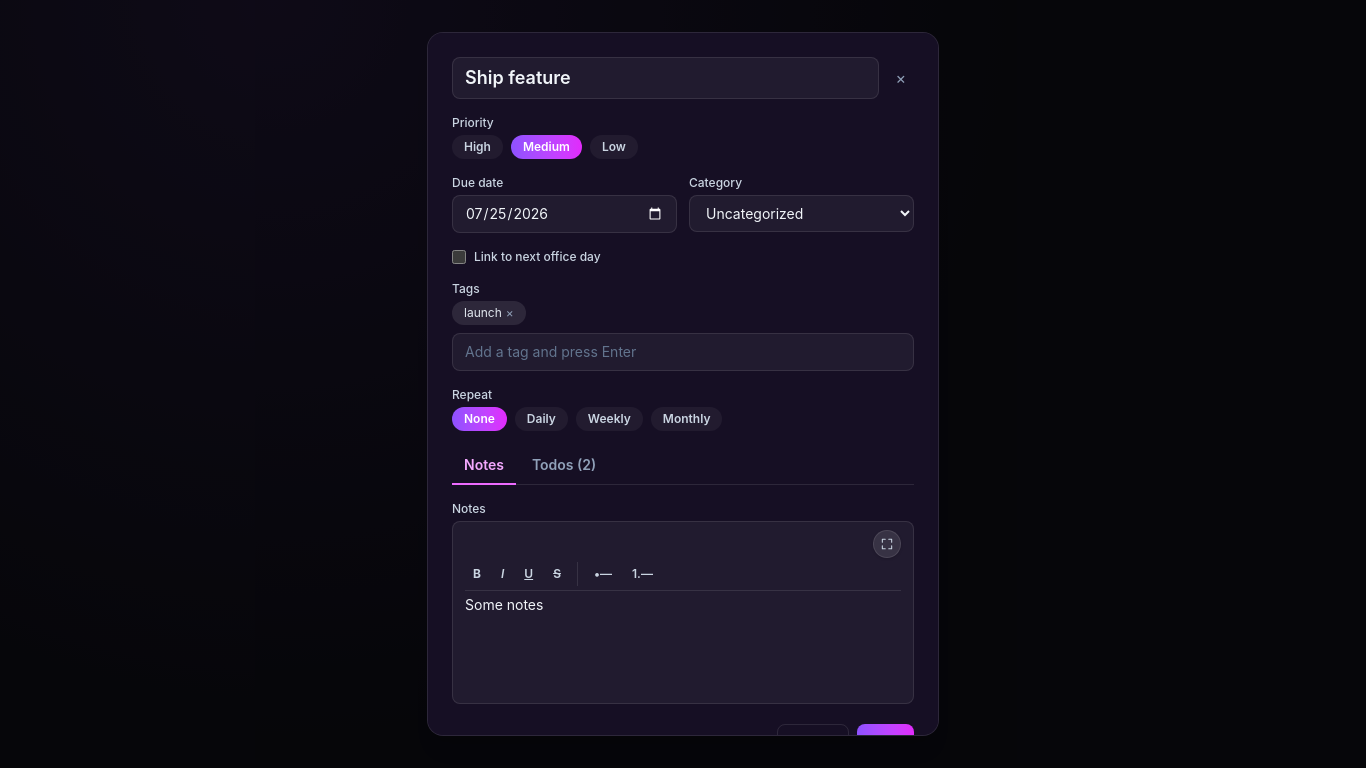
Test: TodoDetail › linking other todos › reordering linked todos › does not change which linked todo is selected
Click the tab "Todos (2)".
click(564, 466)  # box left=520, top=447, right=608, bottom=485
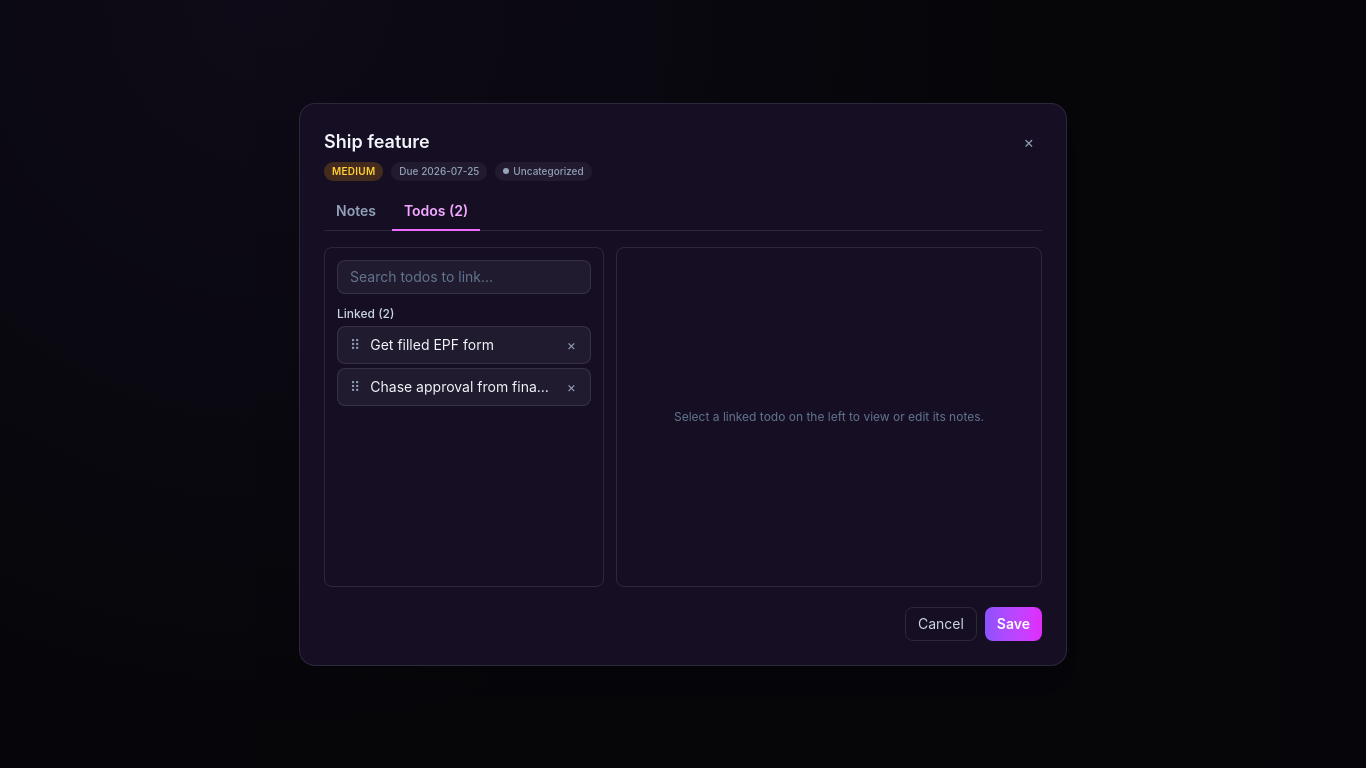
Click the text "Chase approval from finance".
click(463, 386)  # box left=370, top=376, right=555, bottom=396
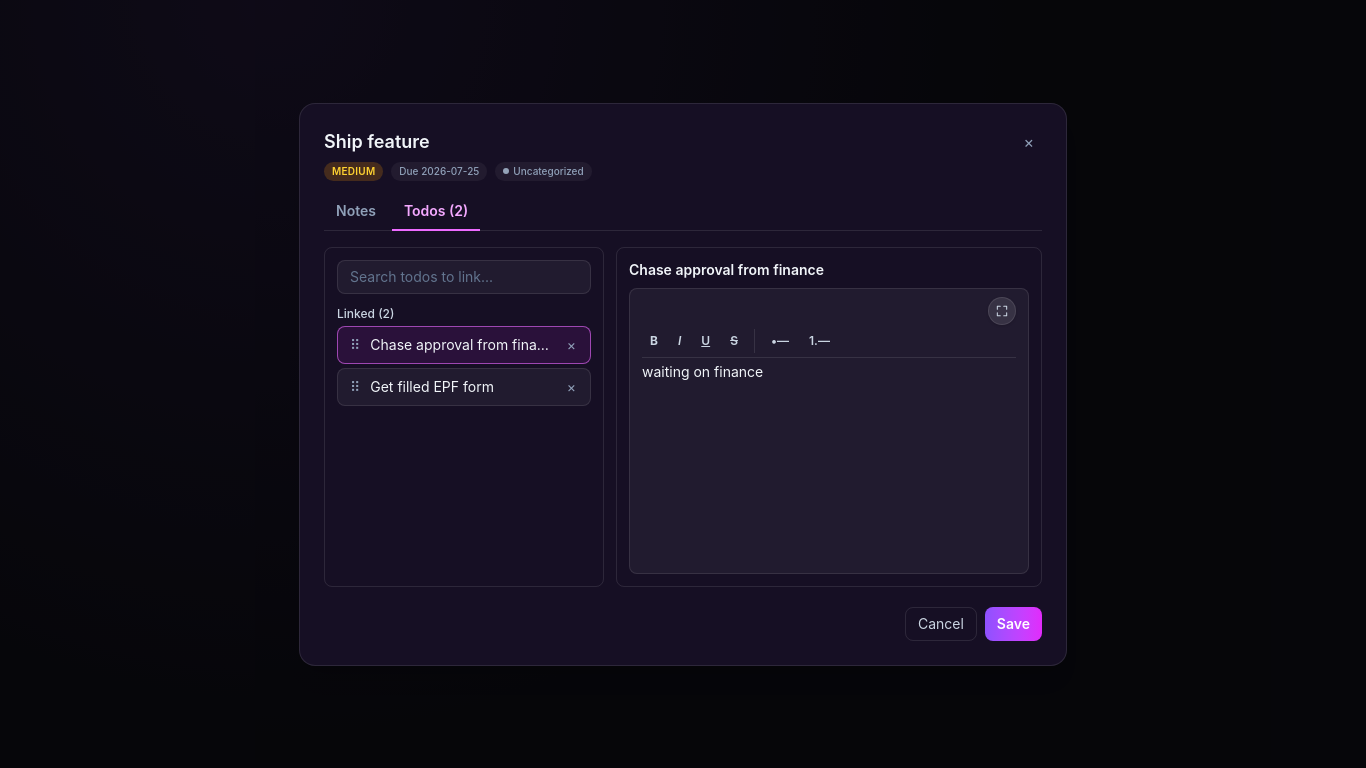
expect the text box "waiting on finance" is shown: met, box left=642, top=362, right=763, bottom=380
